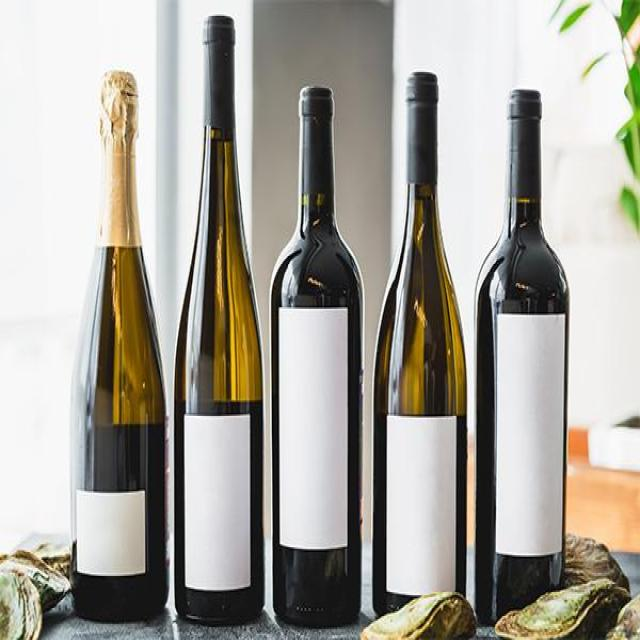glass bottle: (172, 14, 268, 625), (371, 72, 470, 622), (69, 69, 167, 624), (269, 81, 367, 630), (473, 85, 570, 630)
